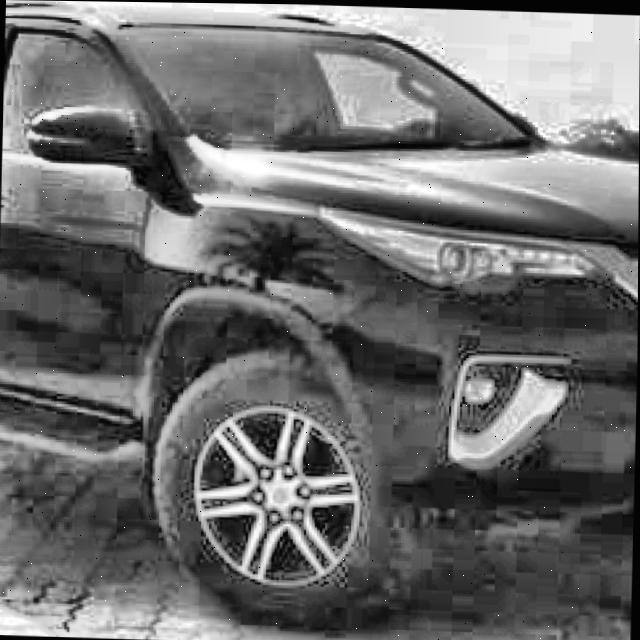light_vehicle: (0, 0, 640, 635)
